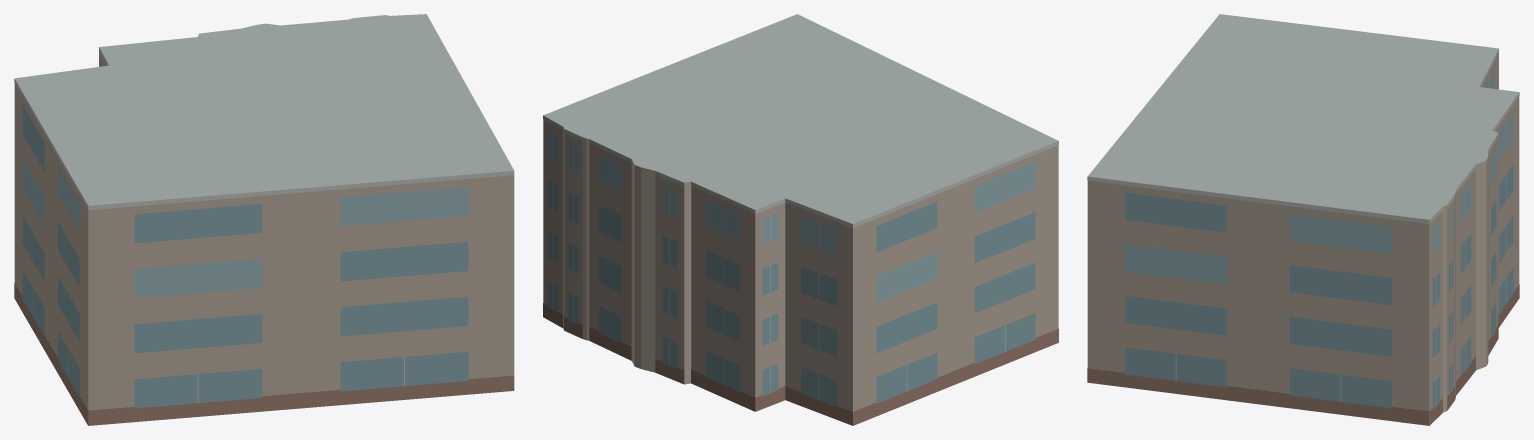
Rendered from survey-upis-32645987.glb.
The picture shows the model from 3 angles, left to right: view 1: azimuth 30°, elevation 25°; view 2: azimuth 150°, elevation 25°; view 3: azimuth 270°, elevation 25°; orthographic projection. The views are drawn at different scales.
Visible parts, largest first — view 1: survey-upis-32645987.tmp; view 2: survey-upis-32645987.tmp; view 3: survey-upis-32645987.tmp.
Boxes of the visible parts, x1,y1,x2,y2 form: survey-upis-32645987.tmp: [14, 14, 514, 425]; survey-upis-32645987.tmp: [543, 14, 1058, 425]; survey-upis-32645987.tmp: [1087, 14, 1519, 425].
Size of the model in its own units: 26.14 by 12.2 by 23.19.
